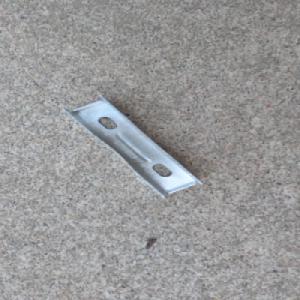ClampPart: (60, 93, 205, 199)
